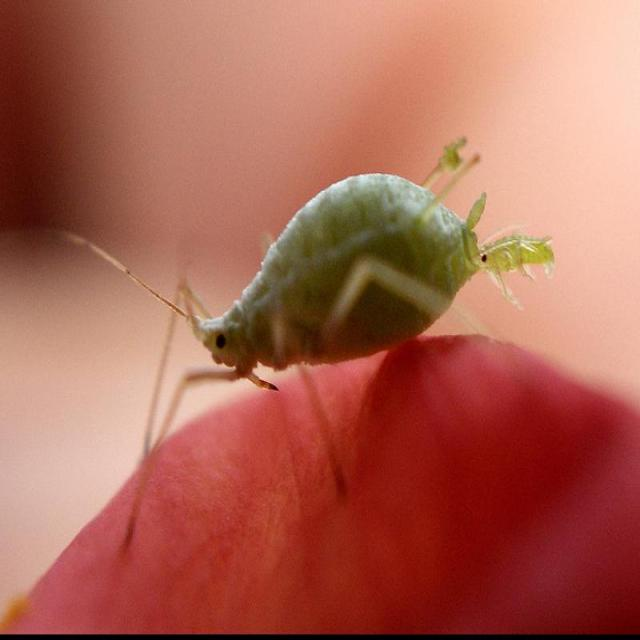Aphids: (77, 102, 572, 550)
